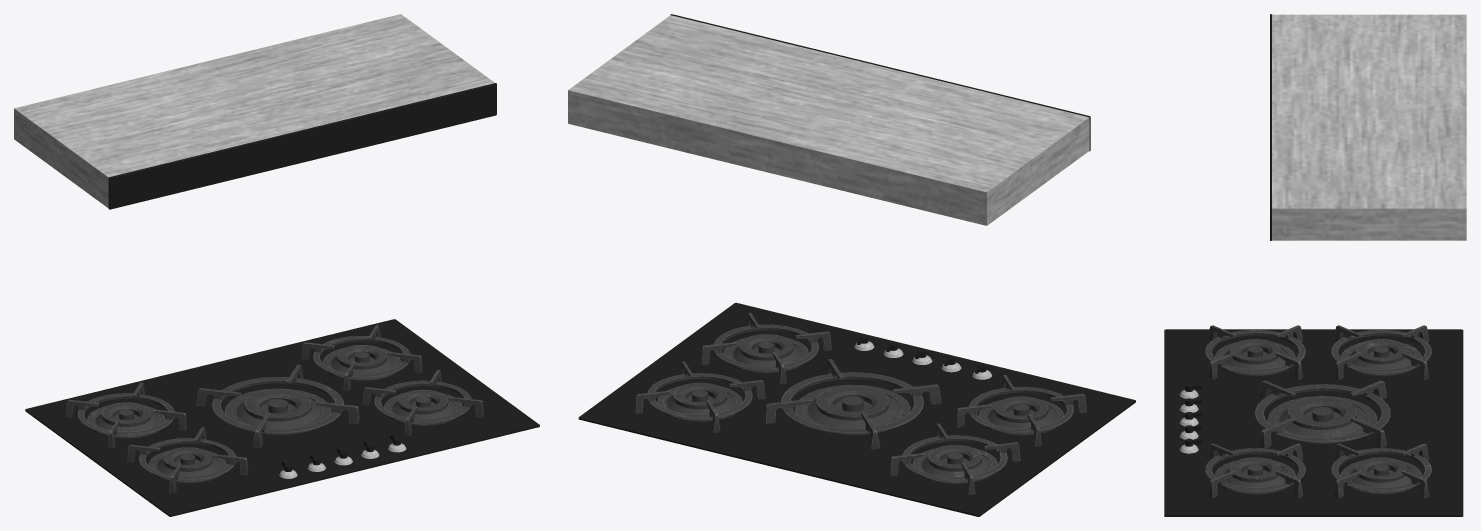
File: gas5.glb
3 renders of one model, left to right at view 1: azimuth 30°, elevation 25°; view 2: azimuth 150°, elevation 25°; view 3: azimuth 270°, elevation 25°, orthographic. The views are drawn at different scales.
Parts seen in each view (by area): view 1: Gas; view 2: Gas; view 3: Gas.
Part boxes in pixels (x1,y1,x2,y2): Gas: [14, 14, 539, 516]; Gas: [568, 14, 1135, 516]; Gas: [1164, 14, 1466, 516].
Bounding box in the file's own units: 0.9 × 0.674 × 0.5914.
1 material, 1 textured.
